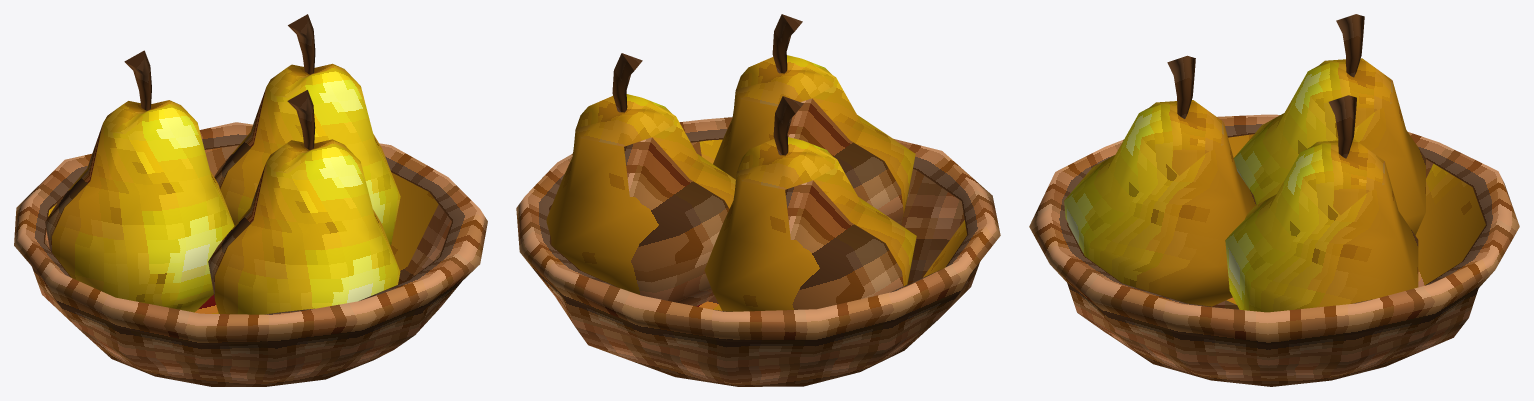
Rendered from int_fru_pear_d.dae.
3 renders of one model, left to right at view 1: azimuth 30°, elevation 25°; view 2: azimuth 150°, elevation 25°; view 3: azimuth 270°, elevation 25°, orthographic. The views are drawn at different scales.
Parts seen in each view (by area): view 1: int_fru_pear_d; view 2: int_fru_pear_d; view 3: int_fru_pear_d.
Part boxes in pixels (box(x1,y1,x2,y2)): int_fru_pear_d: box(14, 14, 487, 386); int_fru_pear_d: box(516, 14, 1000, 386); int_fru_pear_d: box(1029, 14, 1519, 386).
Bounding box in the file's own units: 28.3 × 17.17 × 28.27.
Materials: 1 (1 with a texture image).
